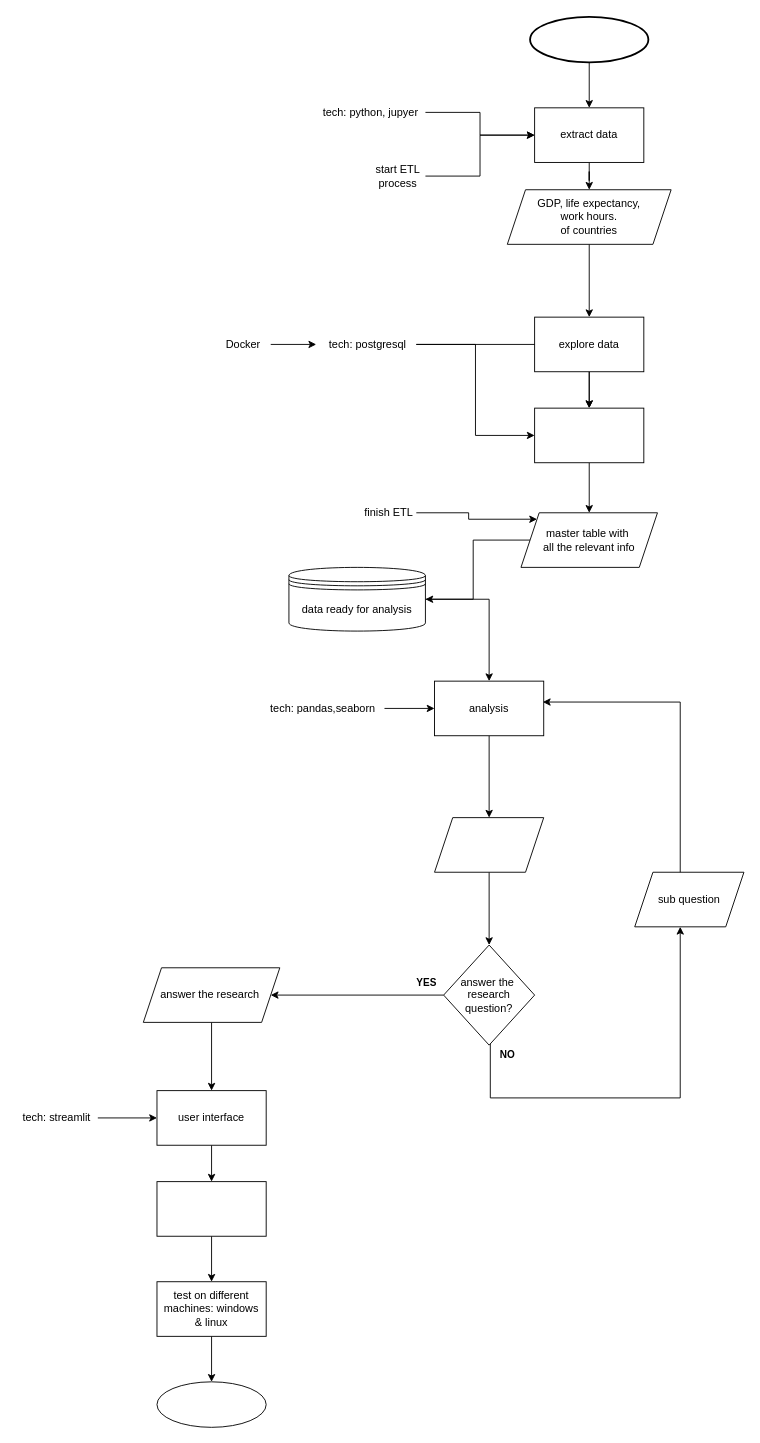
Image size: 760x1443. Some labels were removed from this diagram. The centre of each missing label's shape, as x and y in pixels:
"dockerize software" goes at point 211,1208.
"end" goes at point 211,1404.
"Start" goes at point 589,39.
"transform data stracture" goes at point 589,435.
"visualizations & insight" goes at point 489,844.
